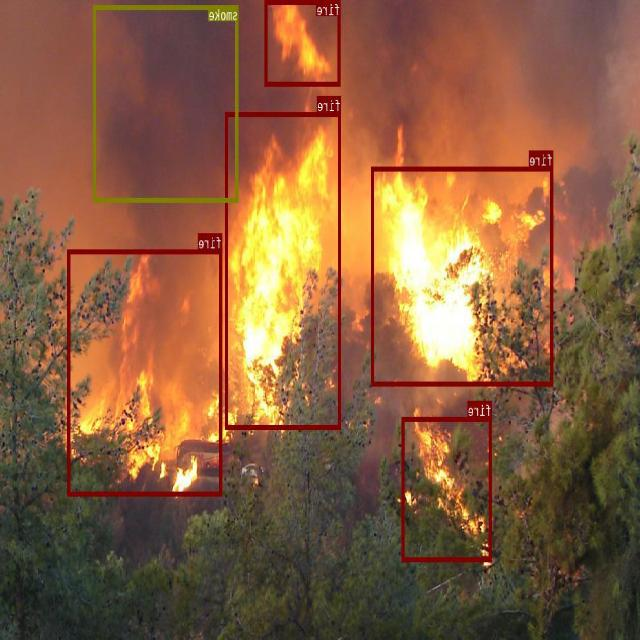fire: (372, 166, 554, 385), (68, 249, 223, 495), (226, 112, 342, 429), (403, 416, 492, 561), (266, 0, 340, 85)
smoke: (94, 4, 239, 202)
